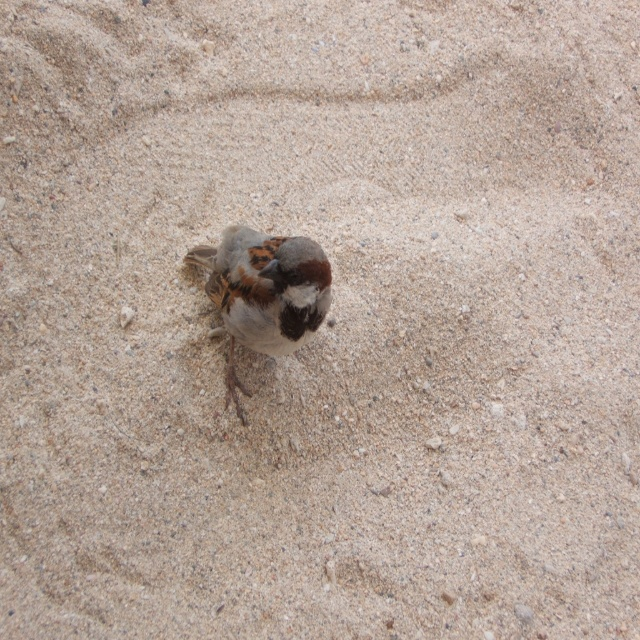Sparrow: (184, 222, 334, 426)
